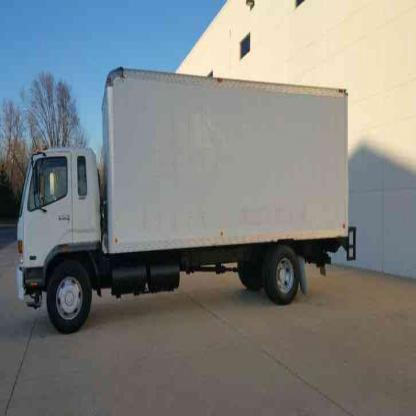truck: (16, 66, 358, 333)
